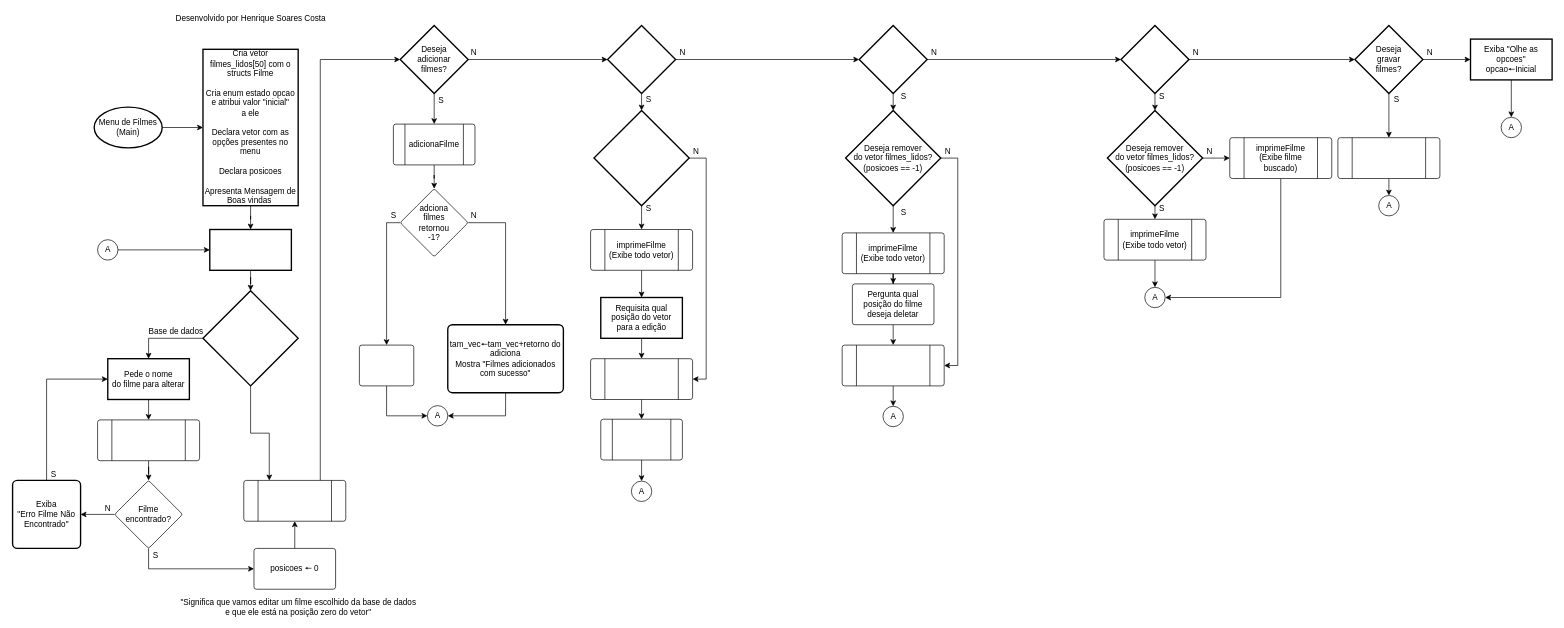
Some shapes in this 1564 by 628 pixel diagram are drawn without their labels. The shapes that lost their labels are listed below. From the top down, each one's box as (x1, y1, x2, y2) in pixels, then its label:
(607, 24, 676, 94): Deseja editar filmes?
(858, 24, 928, 94): Deseja remover filmes?
(1120, 24, 1189, 94): Deseja exibir filmes?
(593, 109, 690, 206): Deseja editar do vetor filmes_lidos? (posicoes == -1)
(1337, 137, 1440, 178): gravaFilme (Grava o vetor)
(209, 228, 292, 271): Exibe as opções ao usuário posicoes 🠔 -1
(202, 290, 299, 386): Deseja mexer na base de dados ou nos vetores já cadastrados?
(359, 344, 414, 386): Mostra "Erro vetor cheio"
(590, 358, 693, 400): imprimeFilme (Exibe Filme Escolhido)
(842, 344, 944, 386): removeFilme (Filme Escolhido)
(97, 419, 200, 461): buscaFilme (Nome do filme Escolhido)
(600, 419, 682, 460): editaFilme (Filme Escolhido)
(243, 480, 346, 521): le_numero (&opcao,1,5,'i')
